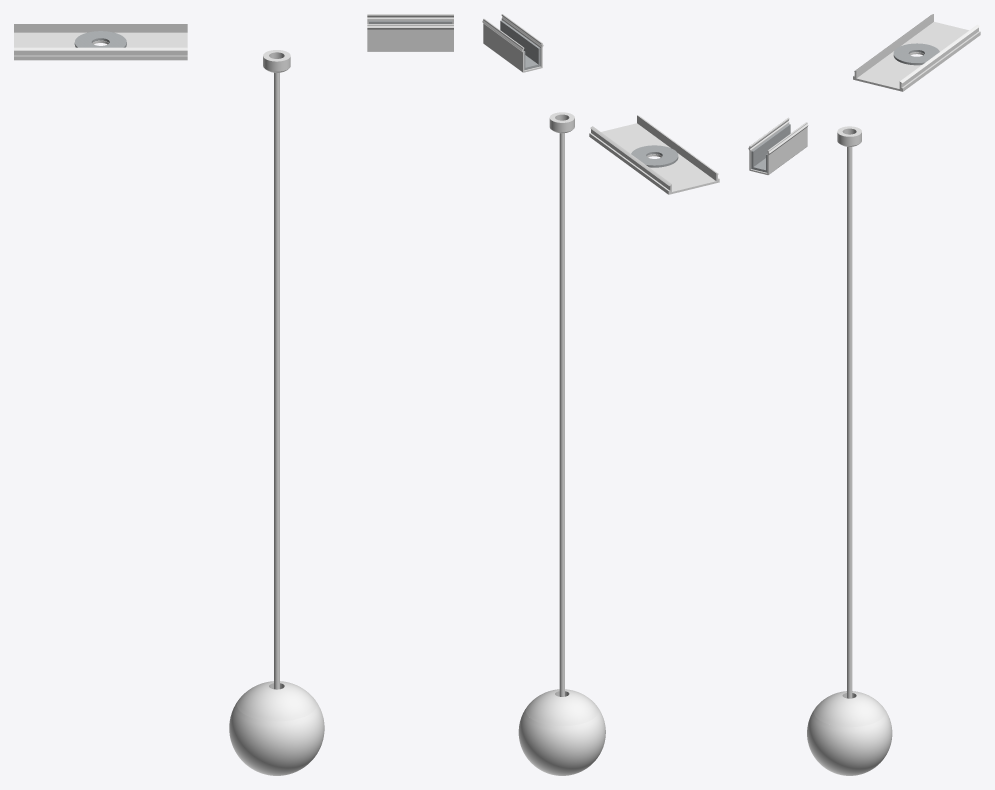
The model's file is PallaPendente.glb.
3 renders of one model, left to right at view 1: azimuth 30°, elevation 25°; view 2: azimuth 150°, elevation 25°; view 3: azimuth 270°, elevation 25°, orthographic. The views are drawn at different scales.
Visible parts, largest first — view 1: 3DGeom-10, 3DGeom-3, 3DGeom-7, 3DGeom-15, 3DGeom-1; view 2: 3DGeom-10, 3DGeom-3, 3DGeom-7, 3DGeom-1, 3DGeom-15, 3DGeom-13, 3DGeom-11, 3DGeom-8; view 3: 3DGeom-10, 3DGeom-3, 3DGeom-7, 3DGeom-1, 3DGeom-15, 3DGeom-13, 3DGeom-11.
Part boxes in pixels (x1=…): 3DGeom-10: x1=14, y1=24, x2=187, y2=60; 3DGeom-3: x1=229, y1=701, x2=324, y2=775; 3DGeom-7: x1=274, y1=72, x2=279, y2=689; 3DGeom-15: x1=367, y1=14, x2=453, y2=51; 3DGeom-1: x1=237, y1=681, x2=316, y2=721; 3DGeom-10: x1=589, y1=115, x2=719, y2=194; 3DGeom-3: x1=518, y1=708, x2=605, y2=775; 3DGeom-7: x1=559, y1=133, x2=564, y2=696; 3DGeom-1: x1=525, y1=689, x2=598, y2=726; 3DGeom-15: x1=482, y1=14, x2=543, y2=72; 3DGeom-13: x1=631, y1=145, x2=678, y2=167; 3DGeom-11: x1=500, y1=20, x2=540, y2=70; 3DGeom-8: x1=549, y1=112, x2=574, y2=133; 3DGeom-10: x1=853, y1=14, x2=980, y2=91; 3DGeom-3: x1=807, y1=710, x2=892, y2=775; 3DGeom-7: x1=847, y1=147, x2=852, y2=698; 3DGeom-1: x1=814, y1=691, x2=885, y2=727; 3DGeom-15: x1=748, y1=117, x2=808, y2=174; 3DGeom-13: x1=893, y1=43, x2=939, y2=65; 3DGeom-11: x1=751, y1=124, x2=790, y2=172.
Size of the model in its own units: 0.2327 by 0.4823 by 0.1496.
3 materials, 1 textured.
